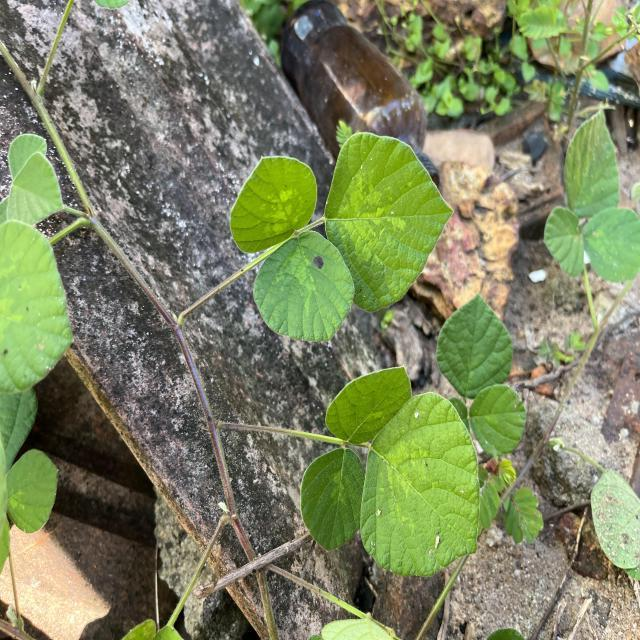Pseudarthria viscida: (228, 130, 455, 346), (298, 363, 482, 580)
